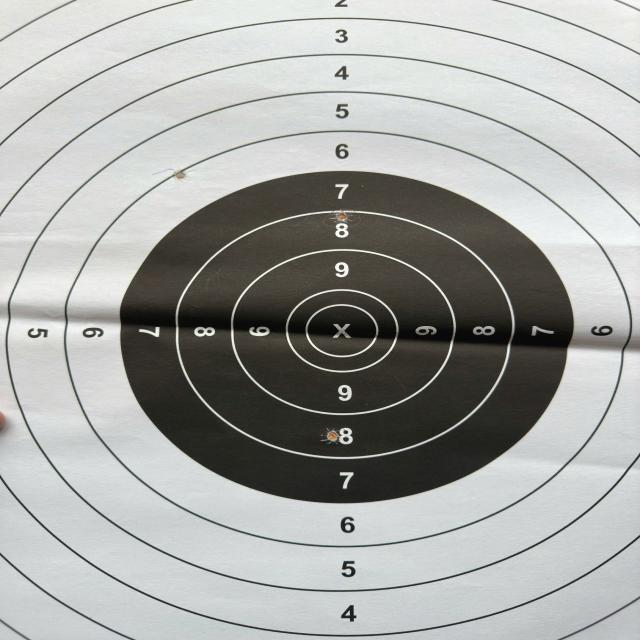bullet: (332, 212, 353, 222), (324, 428, 339, 440), (177, 168, 188, 180)
